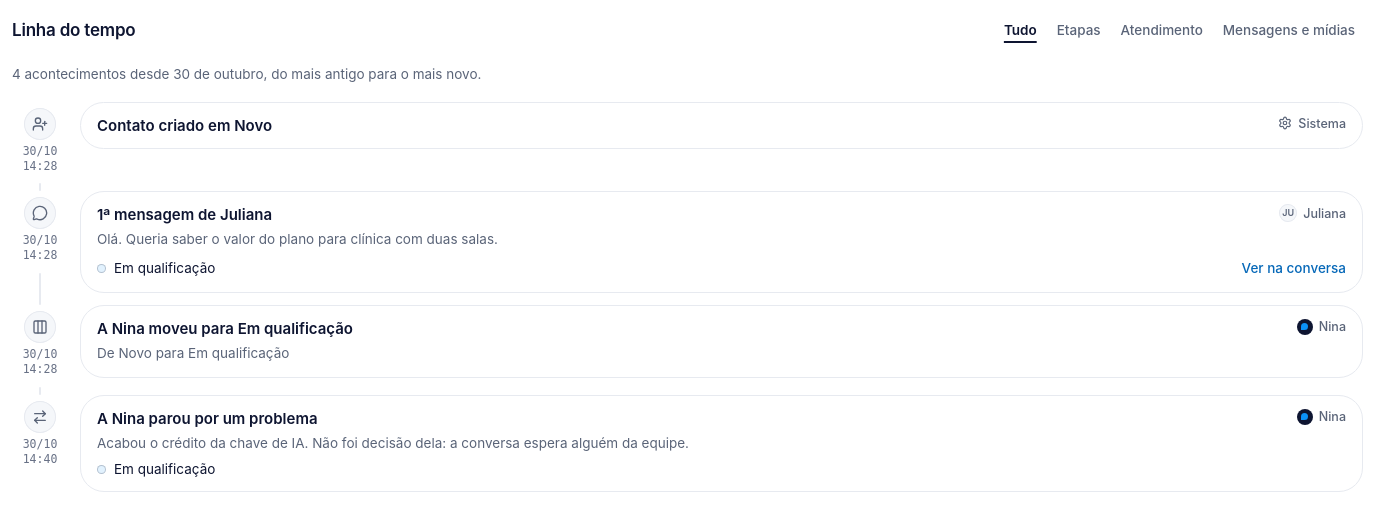
Scenario: AbaLinha › os 4 filtros mudam a lista e o número da frase
The width and height of the screenshot is (1378, 509).
Step 1. Click the button "Etapas" → (1079, 30), box [1049,12,1109,48]
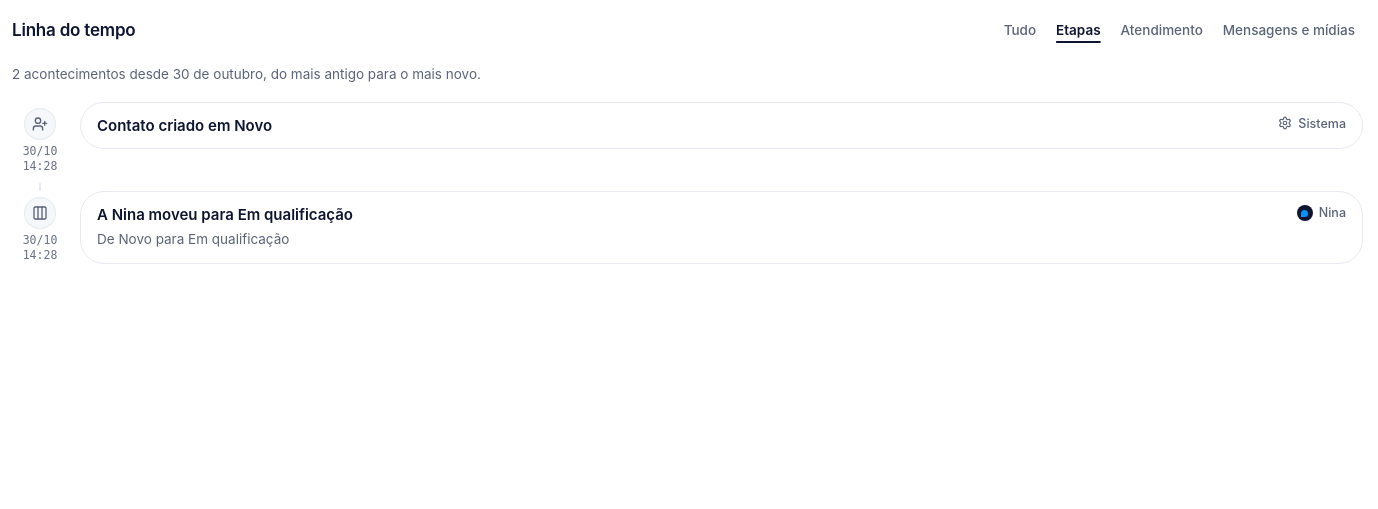
Result: the button "Etapas" is pressed at [1048,12,1109,48]
Step 2. Click the button "Atendimento" → (1162, 30), box [1113,12,1211,48]
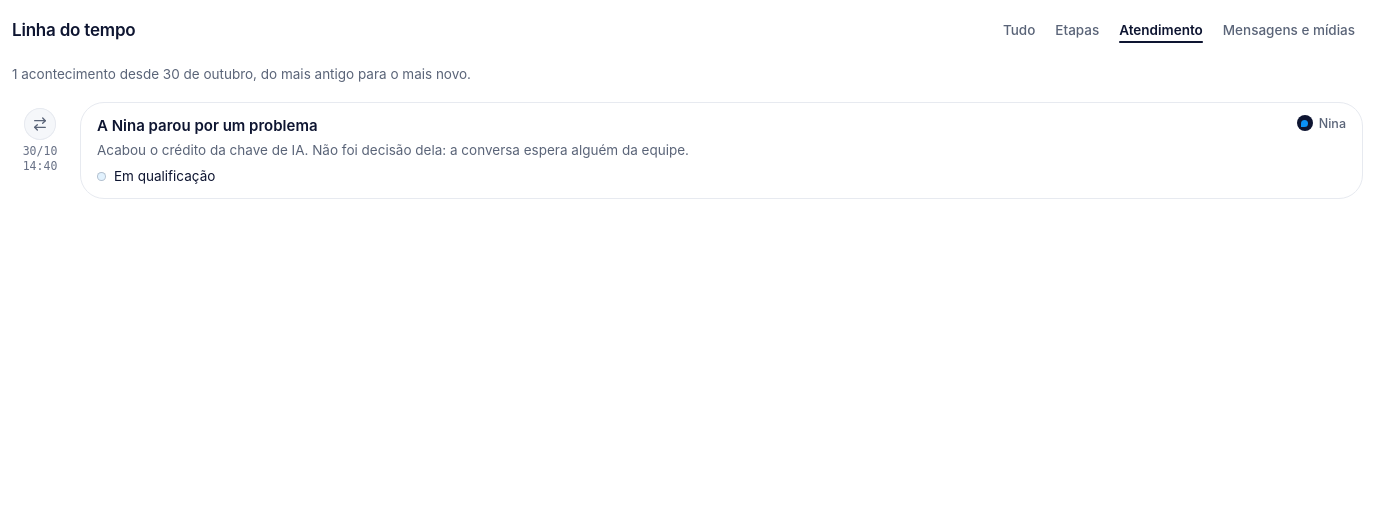
Result: the button "Atendimento" is pressed at [1111,12,1211,48]
Step 3. Click the button "Mensagens e mídias" → (1289, 30), box [1215,12,1363,48]
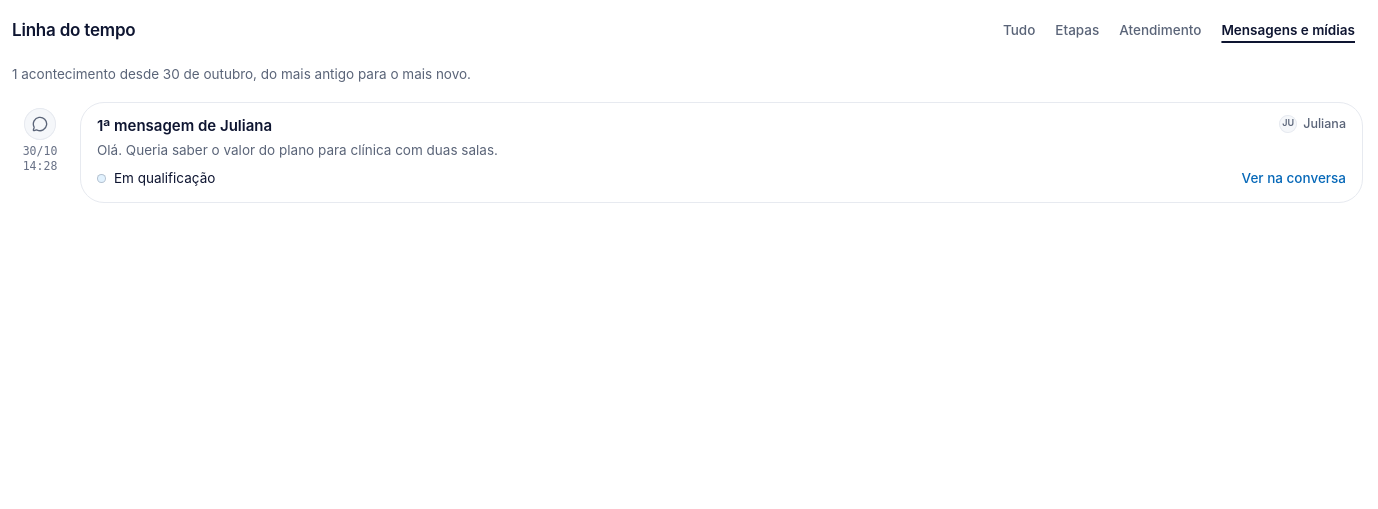
Result: the button "Mensagens e mídias" is pressed at [1213,12,1363,48]
Step 4. Click the button "Tudo" → (1019, 30), box [995,12,1043,48]
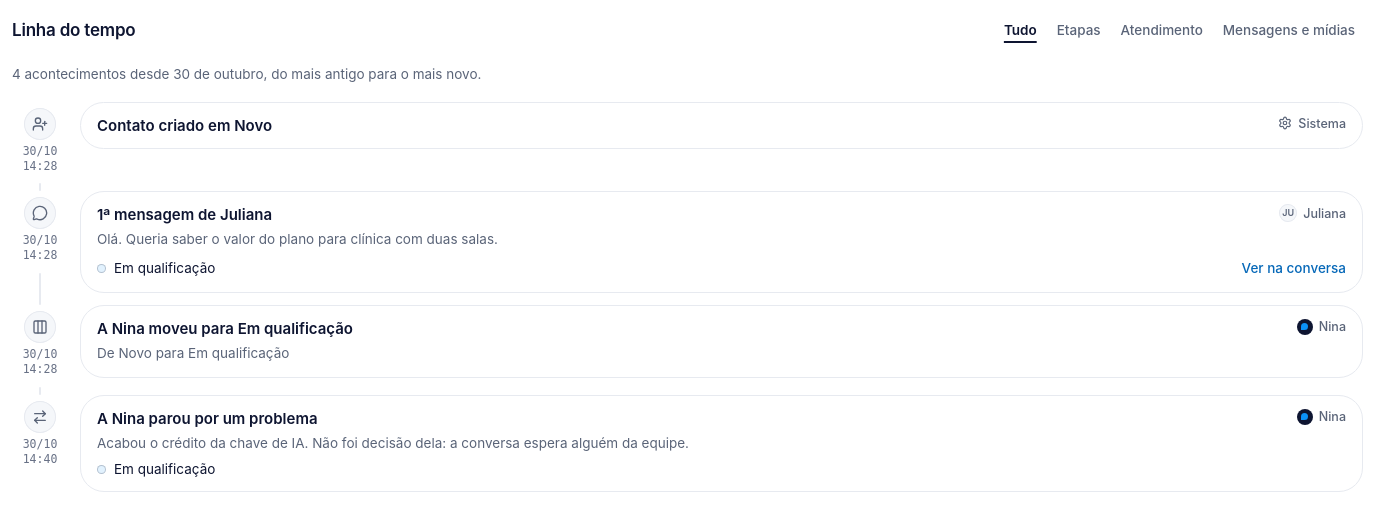
Result: the button "Tudo" is pressed at [996,12,1045,48]
